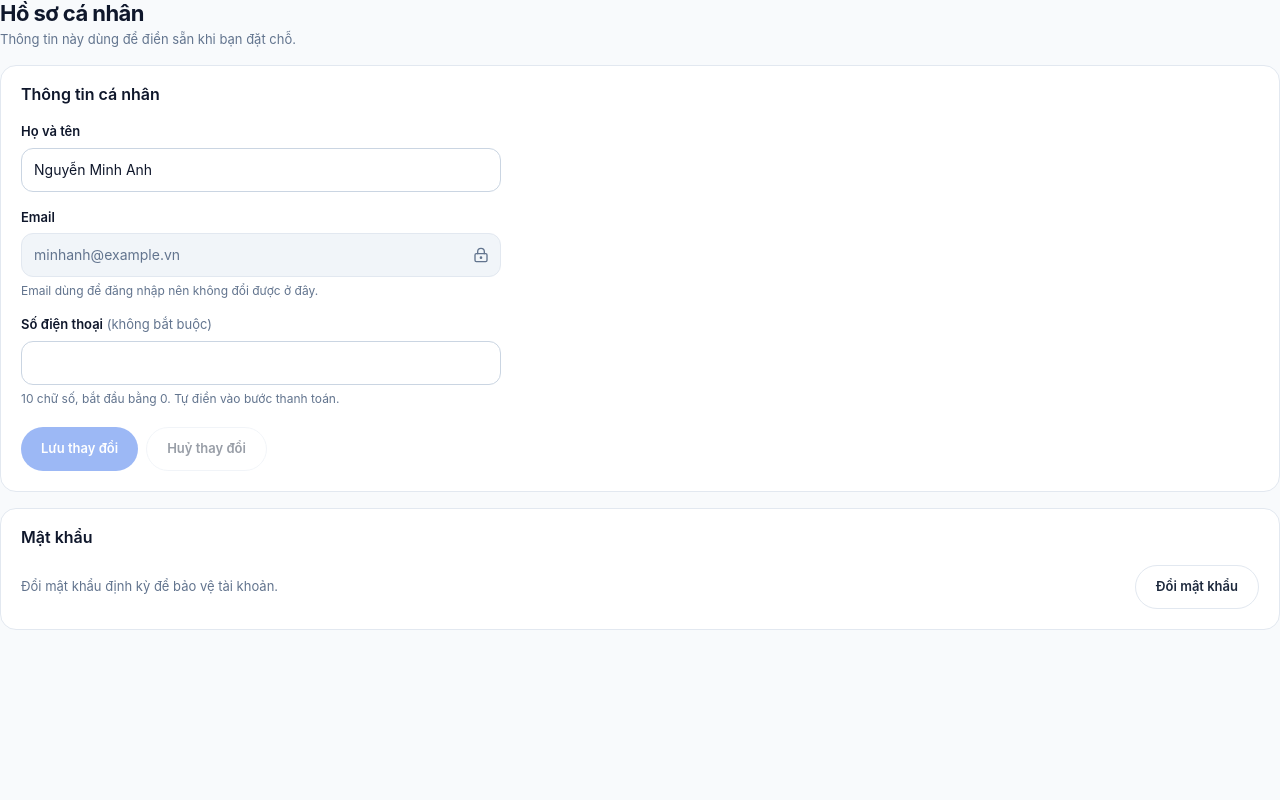
Test: ProfileView — đổi mật khẩu › nhập lại không khớp bị chặn
Click the button "Đổi mật khẩu". click: [1197, 586]
box: [1135, 564, 1259, 608]
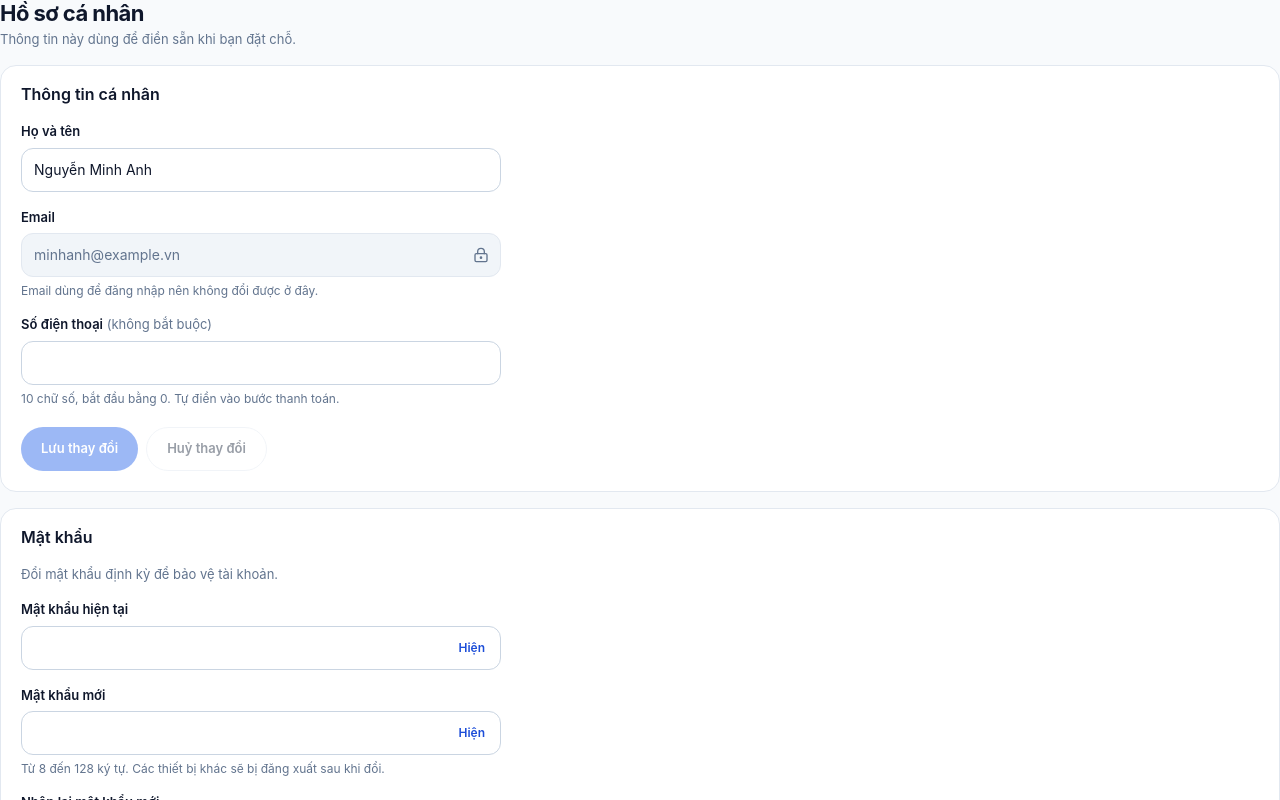
Type "Demo@2026" into the password field labelled "Mật khẩu hiện tại". click: [261, 648]
box: [21, 626, 501, 670]
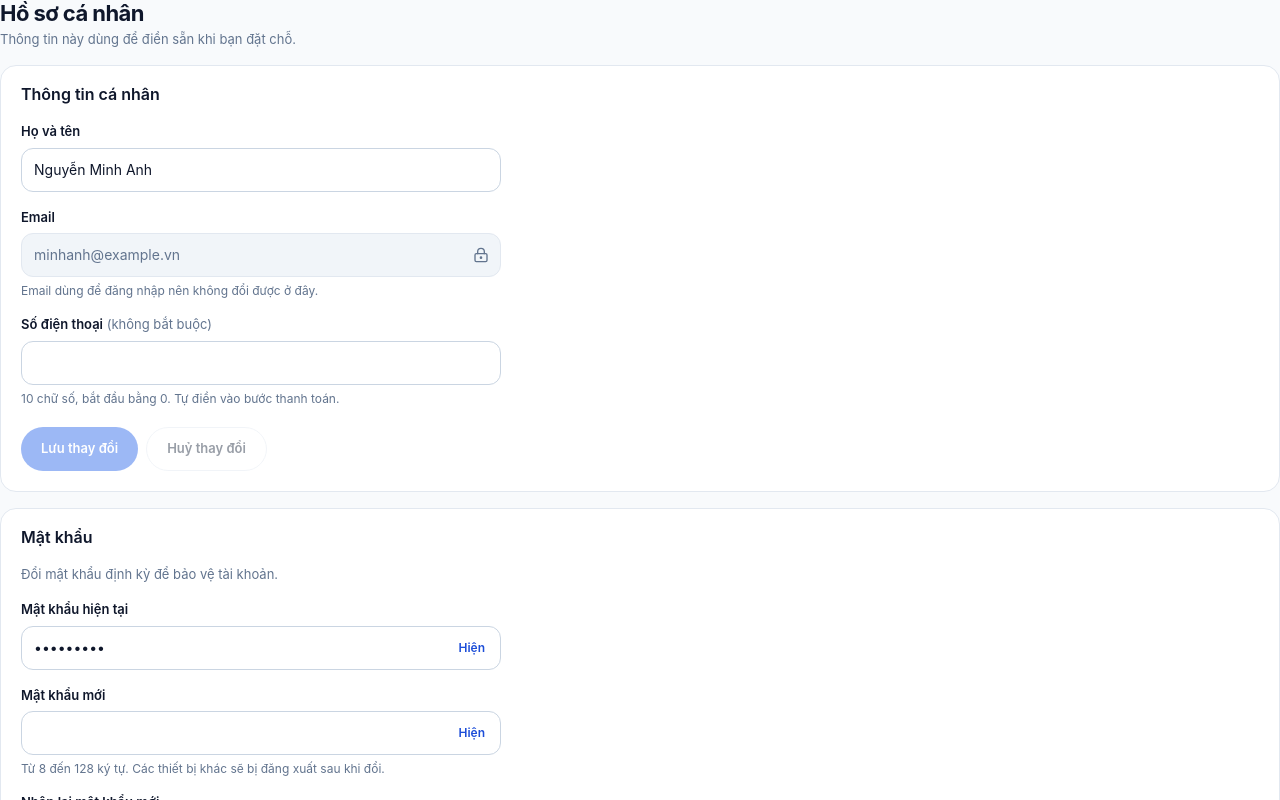
Type "ngua o chay tren de" into the password field labelled "Mật khẩu mới". click: [261, 733]
box: [21, 711, 501, 755]
(page scrolled)
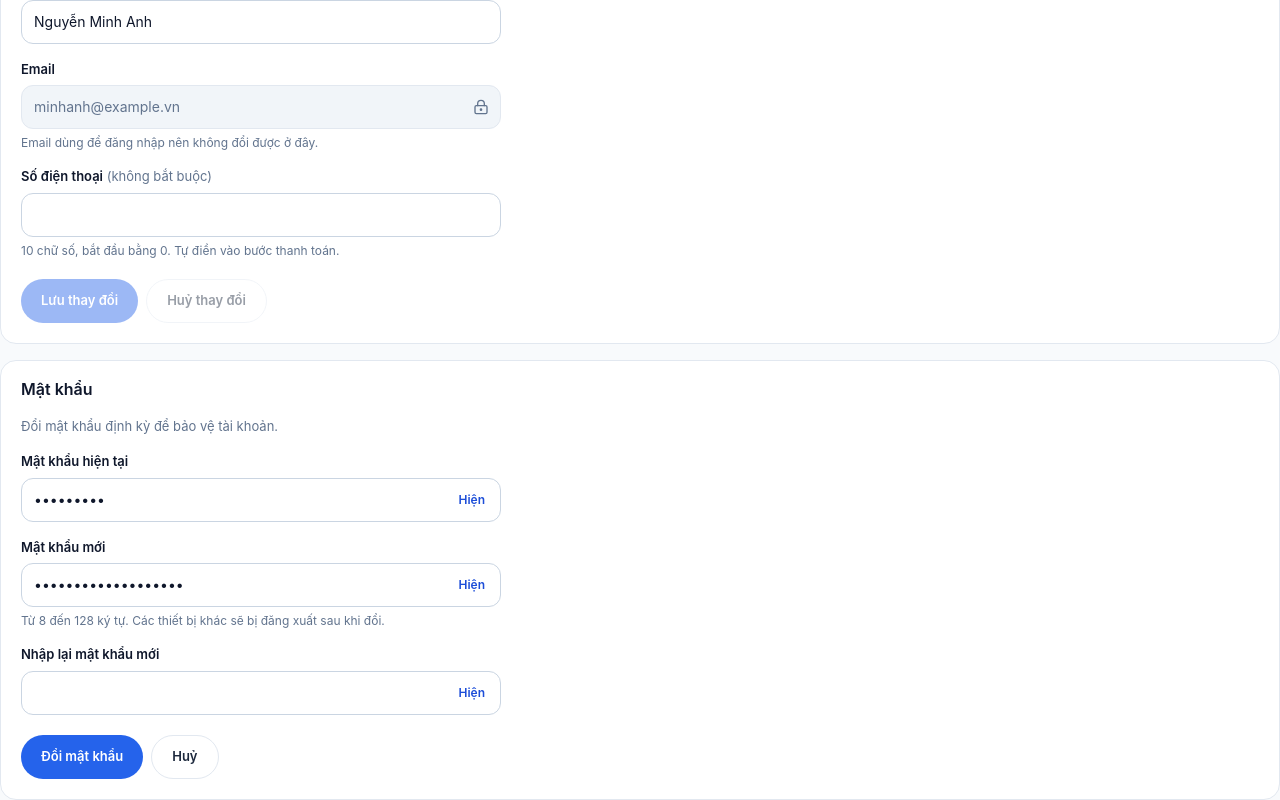
Type "khac hoan toan" into the password field labelled "Nhập lại mật khẩu mới". click: [261, 692]
box: [21, 670, 501, 714]
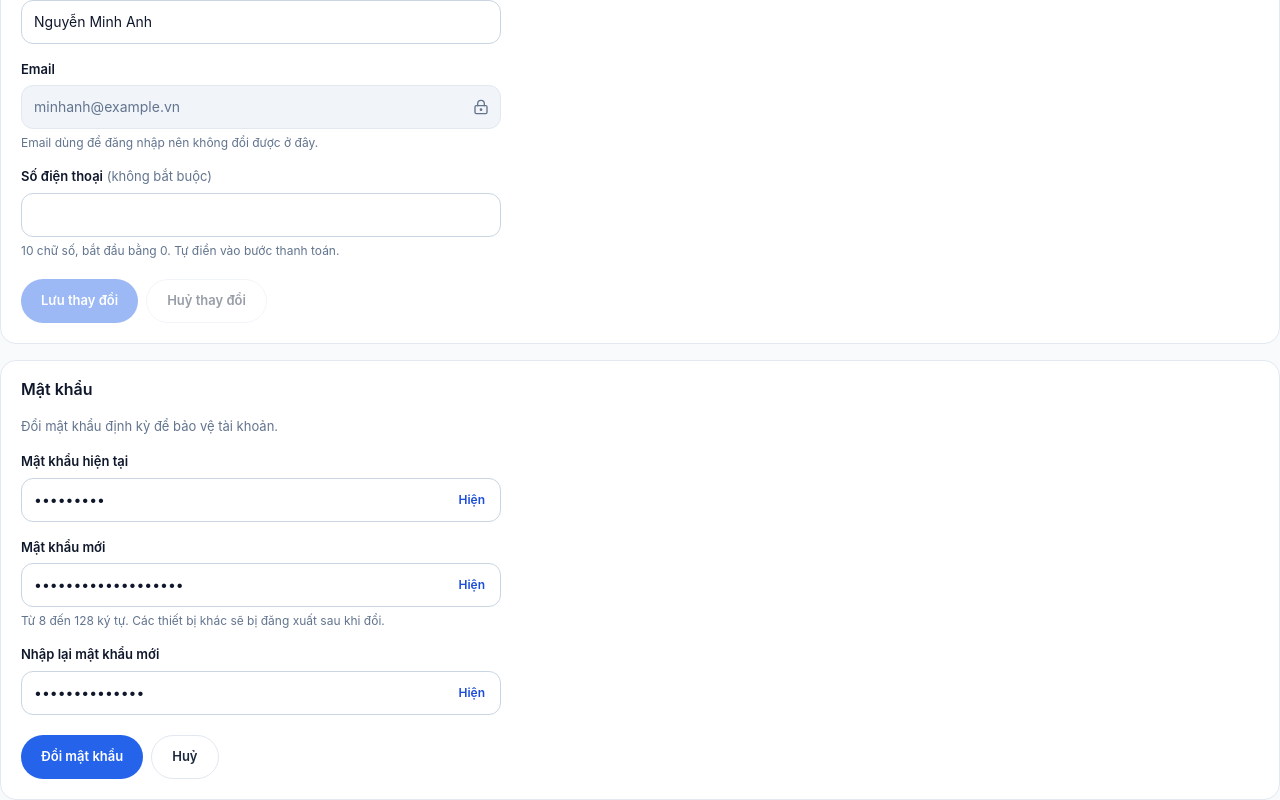
Click the button "Đổi mật khẩu". click: [82, 756]
box: [21, 734, 143, 778]
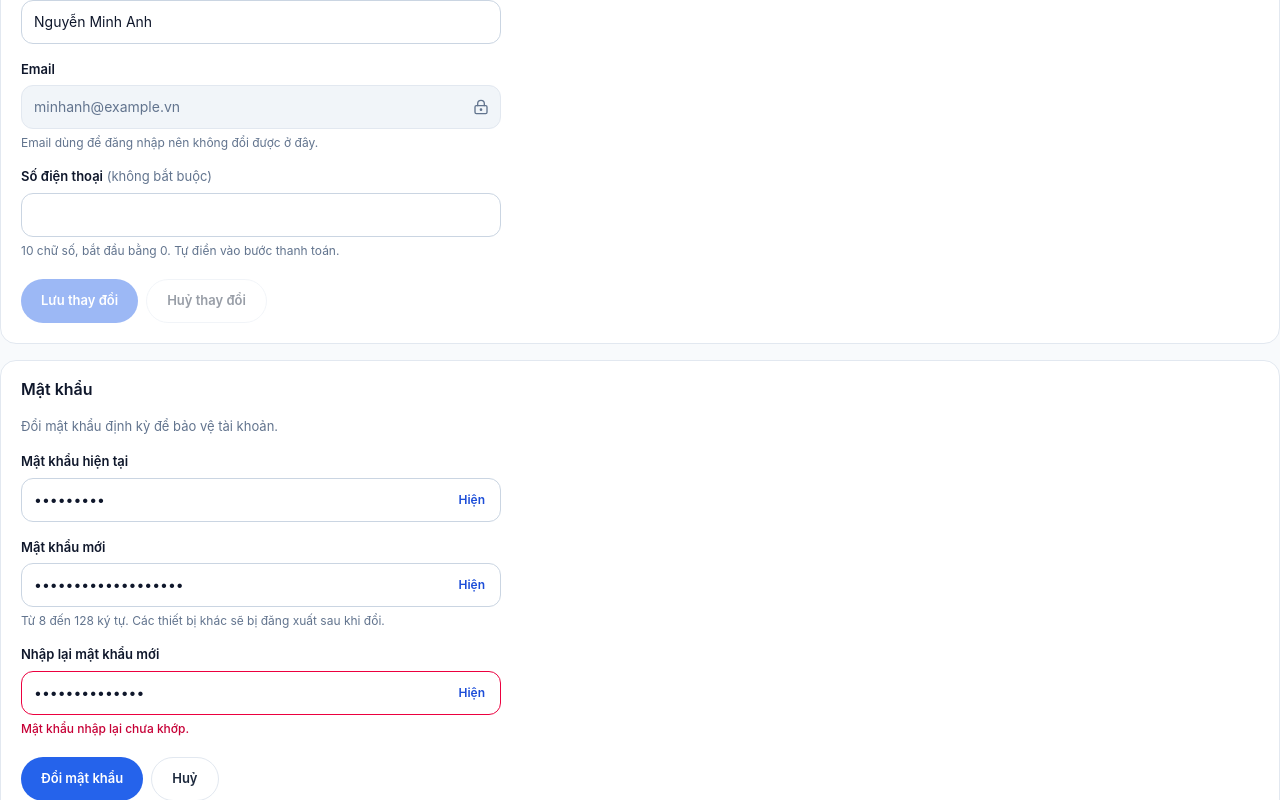
Check: the text "Mật khẩu nhập lại chưa khớp." is shown, box [21, 720, 189, 736]
